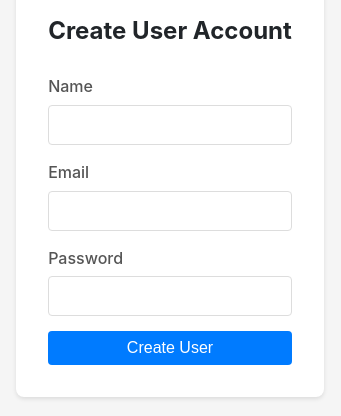
Test: UserForm › should create user successfully
Step 1. Type "John Doe" into the field labelled "Name" → (170, 125), box 48,105 -> 292,145
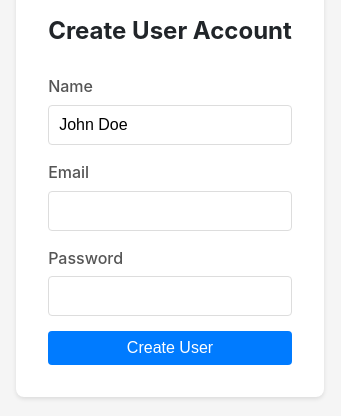
Step 2. Type "john@example.com" into the field labelled "Email" → (170, 211), box 48,191 -> 292,231
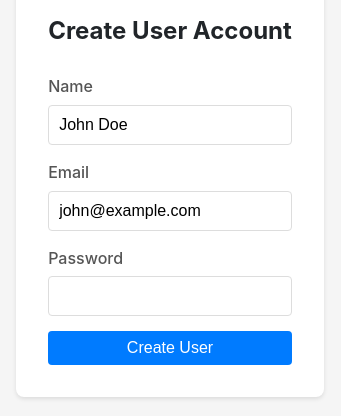
Step 3. Type "password123" into the password field labelled "Password" → (170, 296), box 48,276 -> 292,316
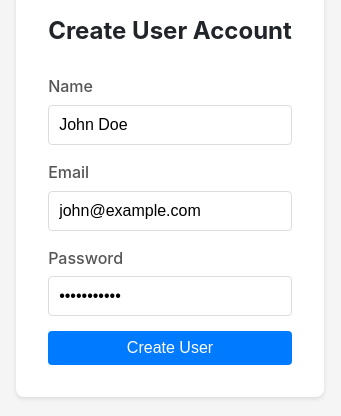
Step 4. Click the button "Create User" → (170, 348), box 48,331 -> 292,365
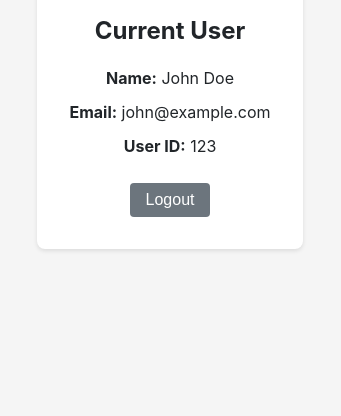
Check: the heading "Current User" is shown, box 95,16 -> 245,45
Check: the text "John Doe" is shown, box 161,68 -> 234,88
